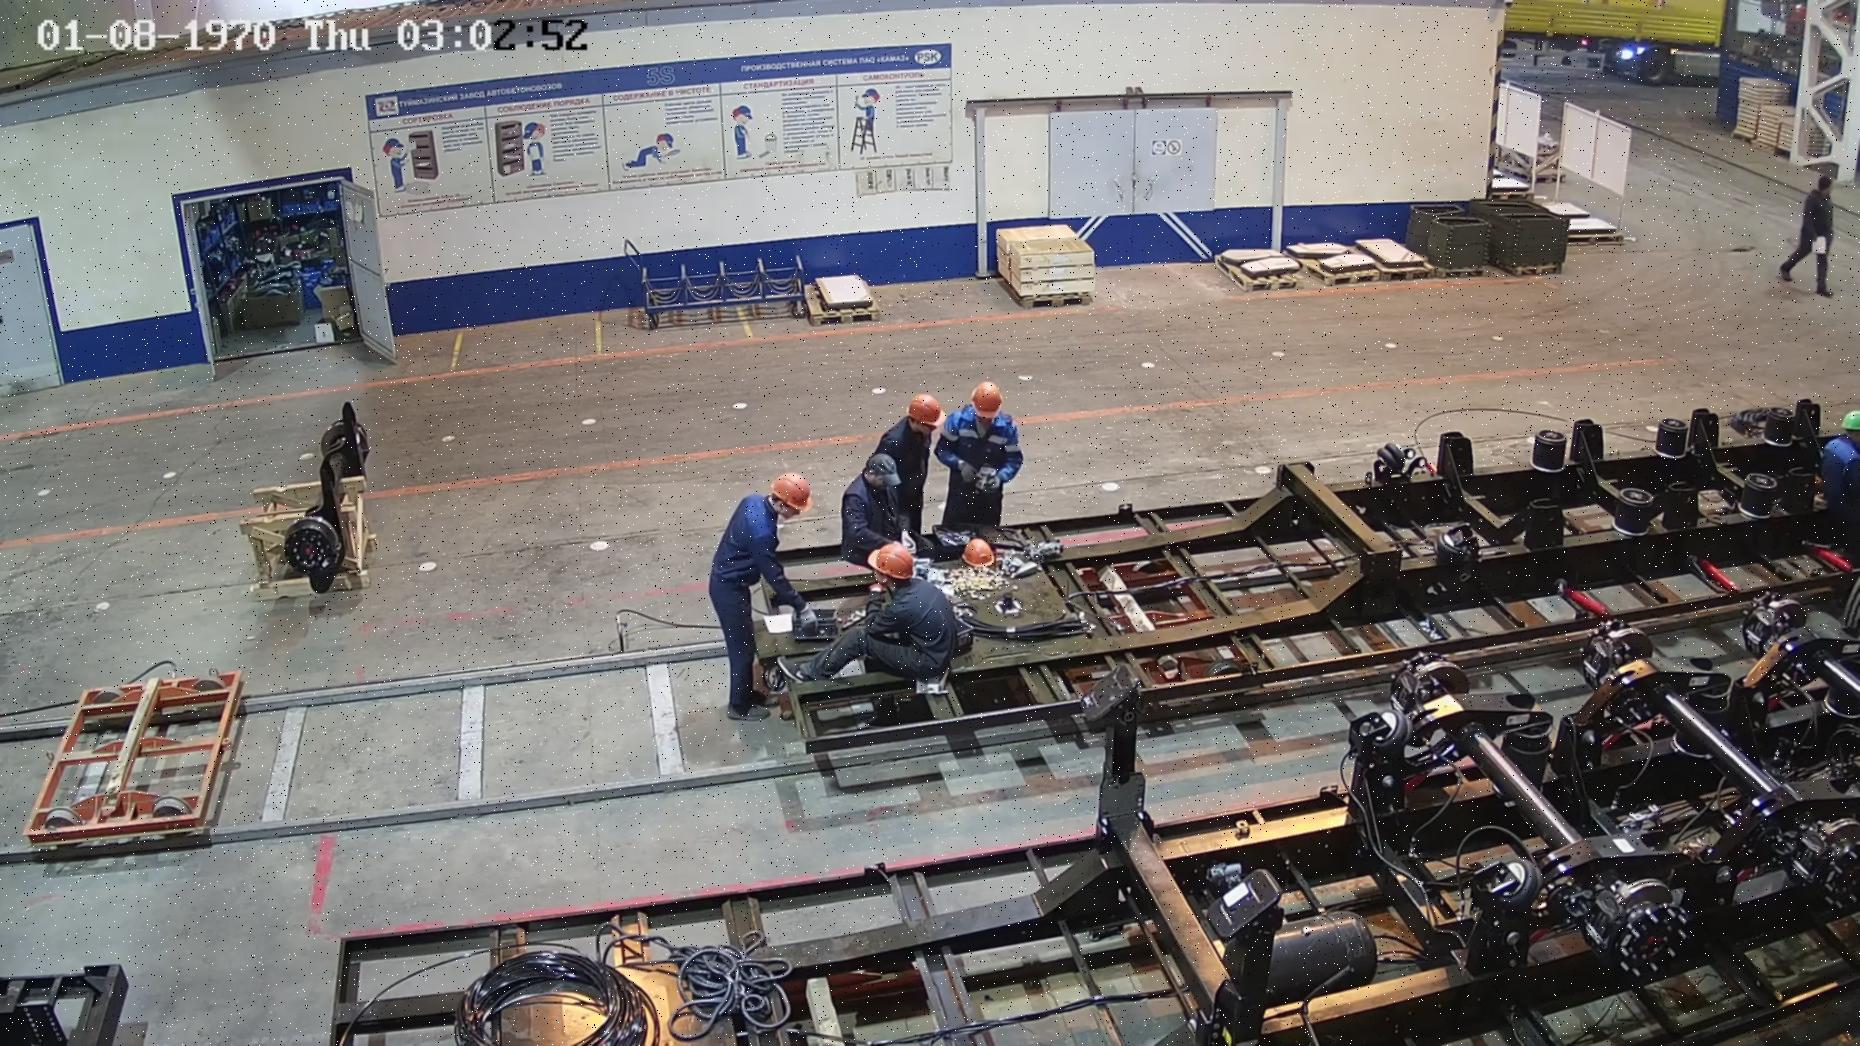helmet: (872, 542, 924, 581), (768, 464, 813, 508), (906, 392, 943, 429), (972, 384, 1007, 418), (1836, 402, 1860, 434)
person: (702, 466, 815, 722), (824, 542, 969, 700), (937, 382, 1026, 529), (1775, 172, 1848, 301), (895, 392, 946, 535), (1812, 400, 1860, 546), (838, 454, 905, 543)
